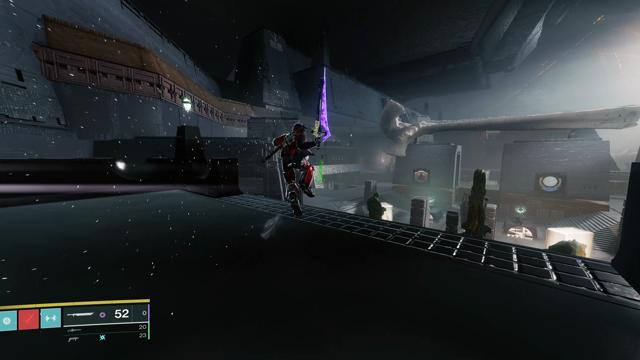pyramid: (415, 170, 428, 183)
traveler: (539, 175, 562, 192)
